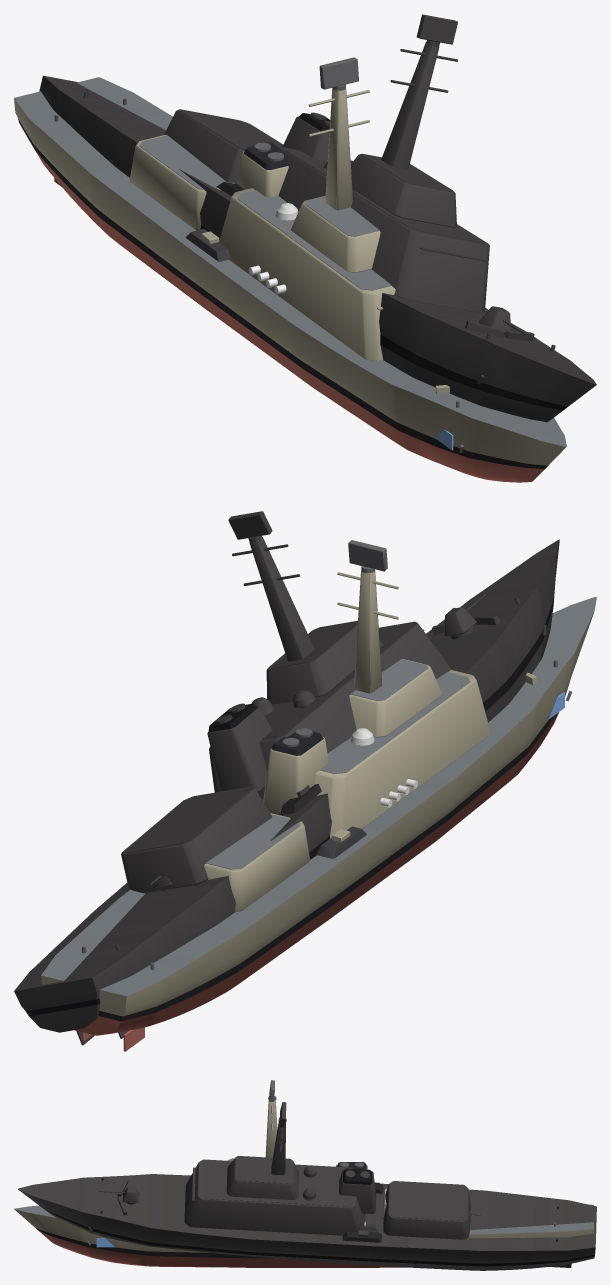
Rendered from corvette__opv_76_nns_aradu.glb.
3 views of the same model, one above another, from view 1: azimuth 30°, elevation 25°; view 2: azimuth 150°, elevation 25°; view 3: azimuth 270°, elevation 25° (orthographic). The views are drawn at different scales.
Visible parts, largest first — view 1: Hull_Mesh, Wreck, Radar_Mesh; view 2: Hull_Mesh, Wreck, Radar_Mesh; view 3: Wreck, Hull_Mesh.
Part boxes in pixels (x1,y1,x2,y2): Hull_Mesh: [14, 77, 566, 482]; Wreck: [39, 14, 596, 422]; Radar_Mesh: [319, 57, 358, 90]; Hull_Mesh: [41, 570, 596, 1051]; Wreck: [14, 511, 559, 1045]; Radar_Mesh: [348, 540, 387, 573]; Wreck: [18, 1102, 596, 1270]; Hull_Mesh: [14, 1100, 593, 1267].
Size of what is drawn, in the model's own units: 17.54 by 28.47 by 80.54.
